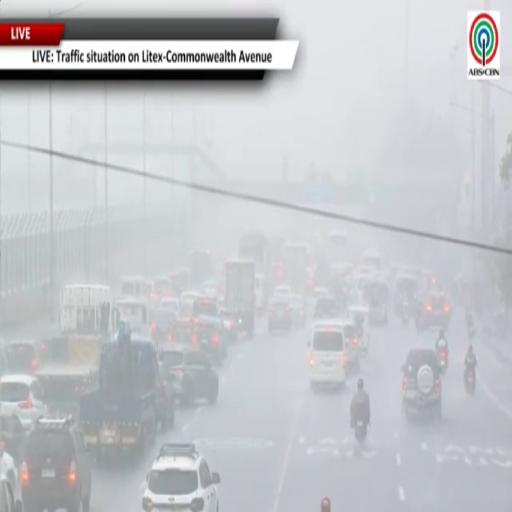car: (20, 418, 91, 511), (143, 444, 220, 511), (159, 346, 219, 405), (402, 348, 441, 419), (308, 323, 348, 389), (0, 375, 48, 429), (195, 316, 227, 364), (0, 411, 27, 461), (416, 293, 451, 330), (156, 365, 175, 430), (152, 298, 179, 343), (4, 341, 39, 374), (364, 279, 389, 325), (394, 272, 419, 316), (0, 442, 18, 491), (268, 297, 292, 333), (167, 319, 197, 347), (0, 477, 23, 511), (313, 295, 339, 318), (192, 295, 218, 318), (180, 291, 200, 317), (290, 295, 306, 326), (152, 277, 172, 300), (312, 287, 329, 306), (202, 280, 220, 296), (272, 284, 292, 298)
motorcycle: (465, 368, 476, 394), (355, 420, 367, 443), (438, 349, 447, 375), (402, 306, 409, 327), (468, 324, 475, 340)
truck: (80, 323, 173, 460), (35, 284, 111, 414), (224, 260, 254, 338), (283, 243, 310, 293), (238, 231, 267, 271), (190, 250, 212, 286)
